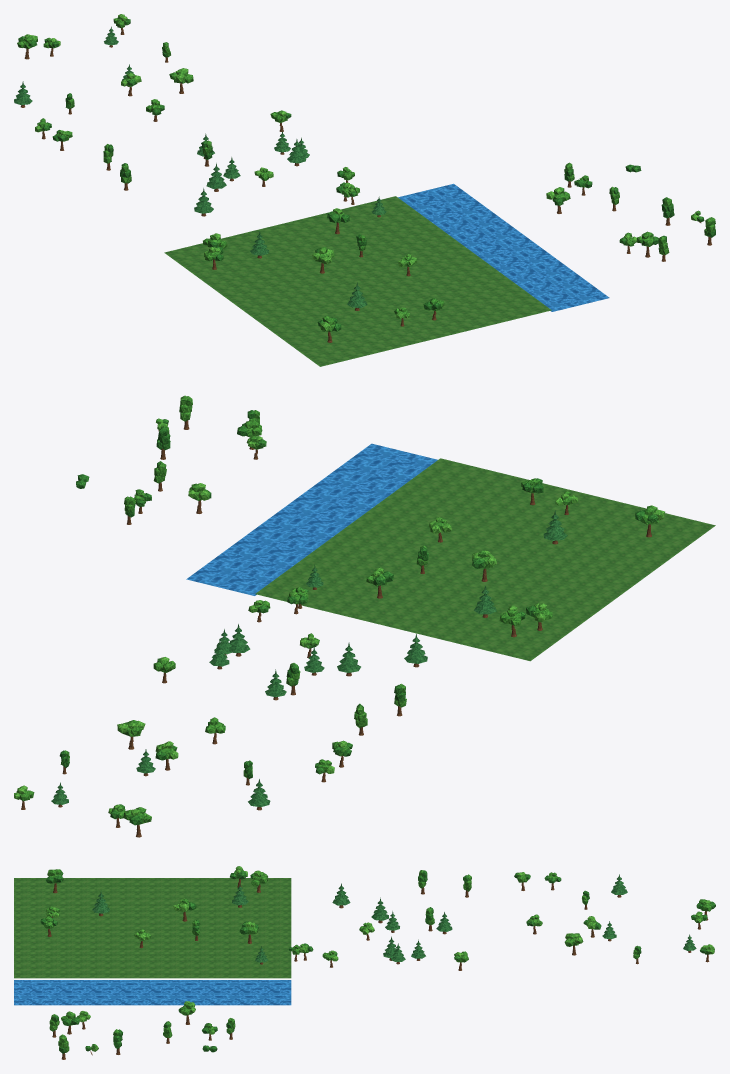
Rendered from skirt_2.glb.
The picture shows the model from 3 angles, top to bottom: view 1: azimuth 30°, elevation 25°; view 2: azimuth 150°, elevation 25°; view 3: azimuth 270°, elevation 25°; orthographic projection. The views are drawn at different scales.
Parts seen in each view (by area): view 1: skirt_2; view 2: skirt_2; view 3: skirt_2.
Part boxes in pixels (x1,y1,x2,y2): skirt_2: (14, 14, 715, 366); skirt_2: (14, 395, 715, 837); skirt_2: (14, 866, 715, 1059).
Size of the model in its own units: 88.76 by 5.95 by 142.
7 materials, 7 textured.
